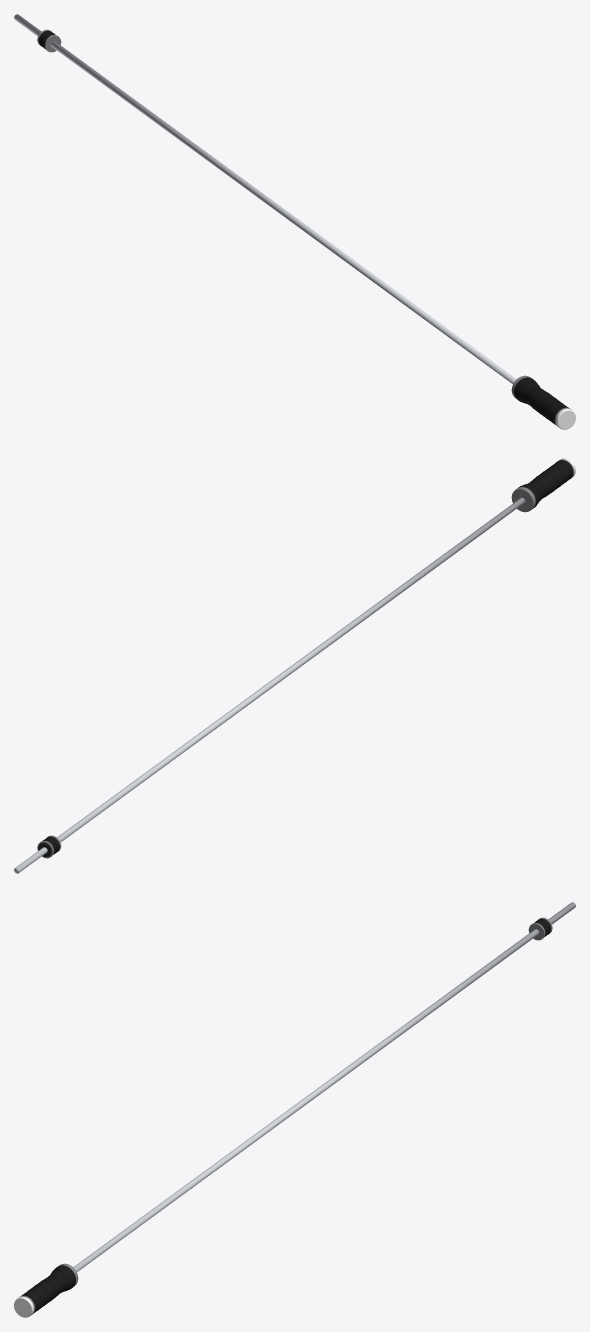
Rendered from fuzeball_rod_2man.glb.
The picture shows the model from 3 angles, top to bottom: view 1: azimuth 30°, elevation 25°; view 2: azimuth 150°, elevation 25°; view 3: azimuth 330°, elevation 25°; orthographic projection.
Parts seen in each view (by area): view 1: rod2_bar.002, rod2_handle_wrapped_grip; view 2: rod2_bar.002, rod2_handle_wrapped_grip; view 3: rod2_bar.002, rod2_handle_wrapped_grip.
Boxes of the visible parts, x1,y1,x2,y2 form: rod2_bar.002: (14,14,516,383); rod2_handle_wrapped_grip: (514,377,568,424); rod2_bar.002: (14,497,525,873); rod2_handle_wrapped_grip: (518,460,573,508); rod2_bar.002: (73,902,575,1271); rod2_handle_wrapped_grip: (21,1265,75,1312).
Bounding box in the file's own units: 3.12 × 3.14 × 133.
5 materials, 2 textured.
